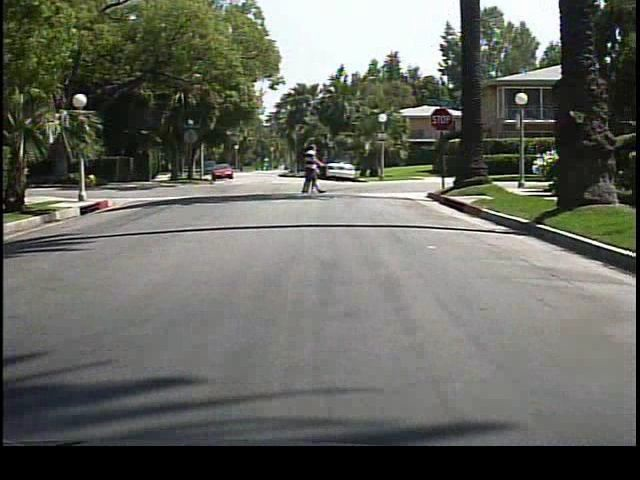person: (297, 146, 319, 196)
